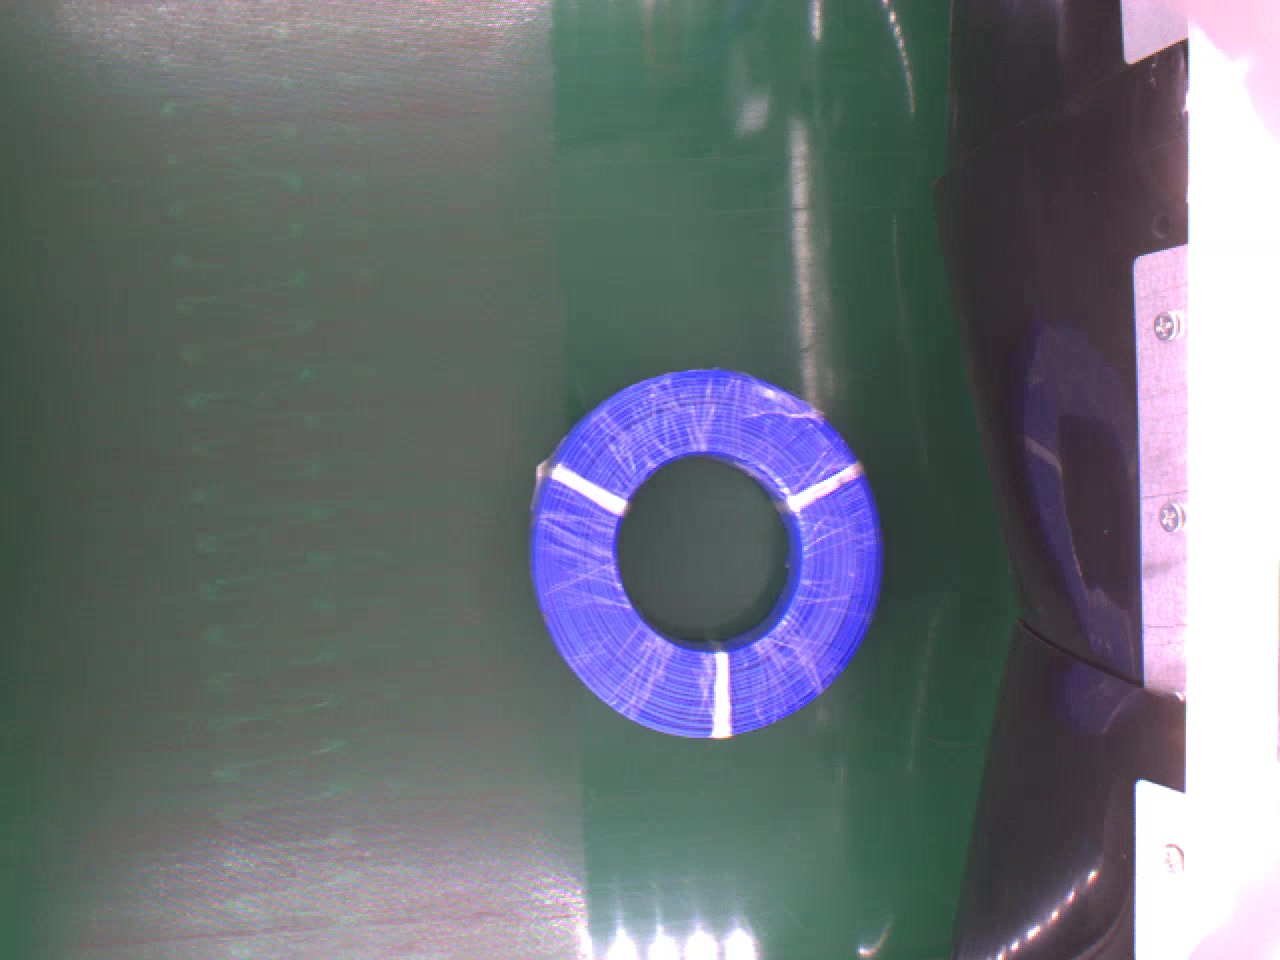blue: (529, 362, 882, 733)
